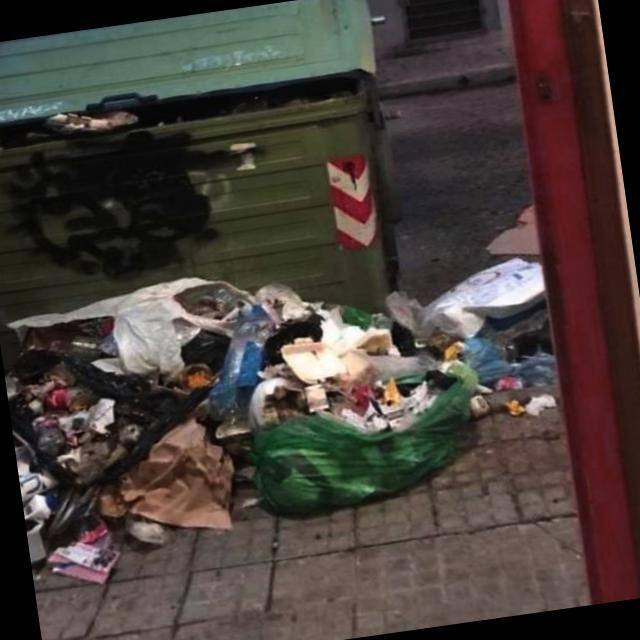garbage: (0, 270, 491, 596), (0, 239, 396, 402), (424, 214, 556, 498), (0, 70, 391, 160)
